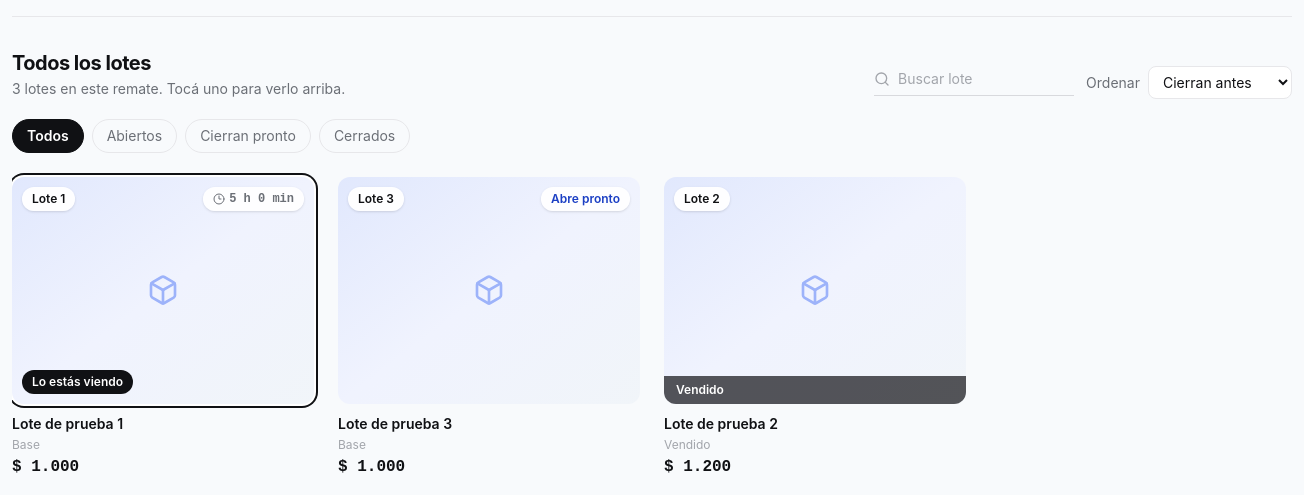
Test case: TimedLoteCatalog › el filtro "Abiertos" saca los cerrados y "Cerrados" deja solo los cerrados
Click the button "Abiertos" at (134, 136), box [92, 119, 177, 153]
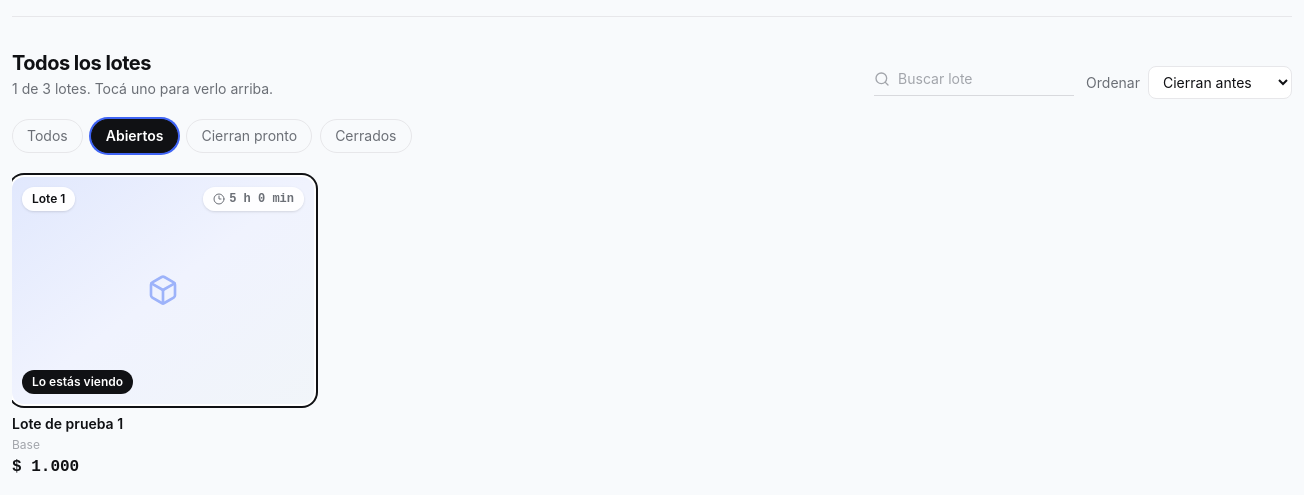
Click the button "Cerrados" at (366, 136), box [320, 119, 412, 153]
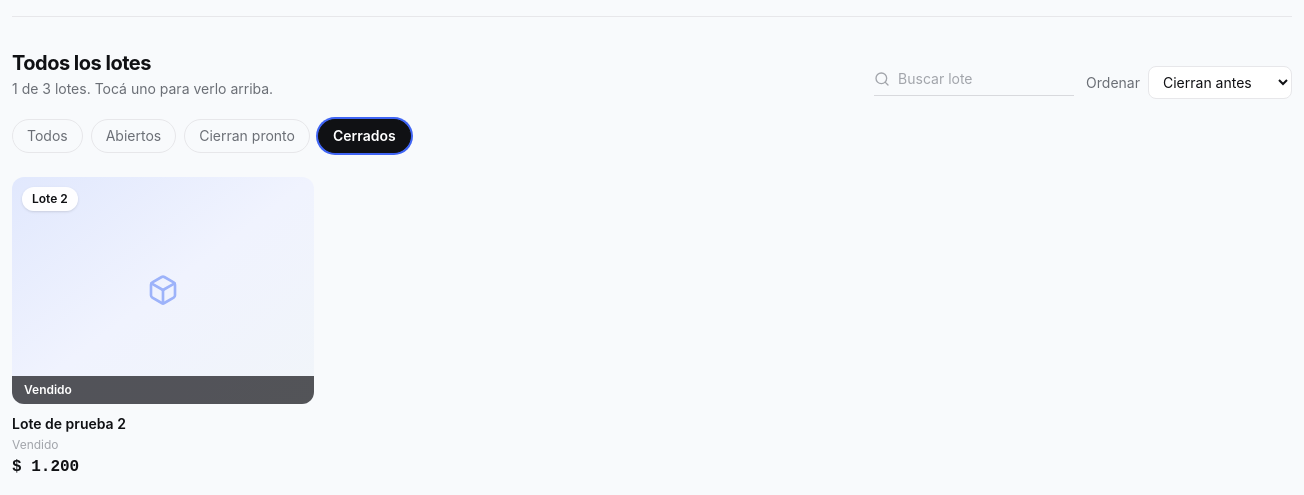
Click the button "Todos" at (47, 136), box [12, 119, 83, 153]
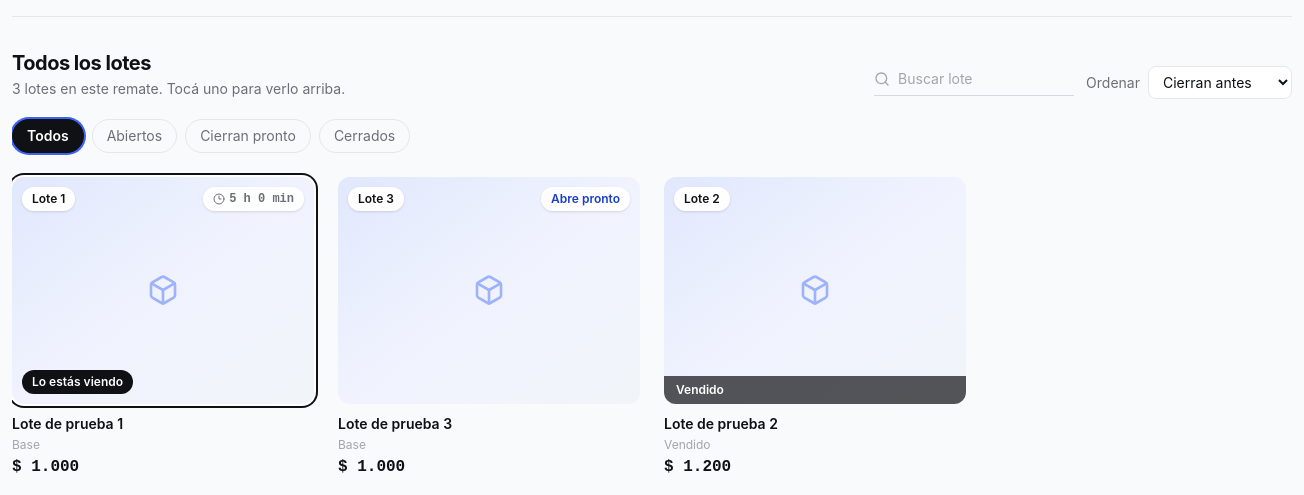
Expected: the number of list items is 3, [12, 177, 314, 479]; [338, 177, 640, 479]; [664, 177, 966, 479]
